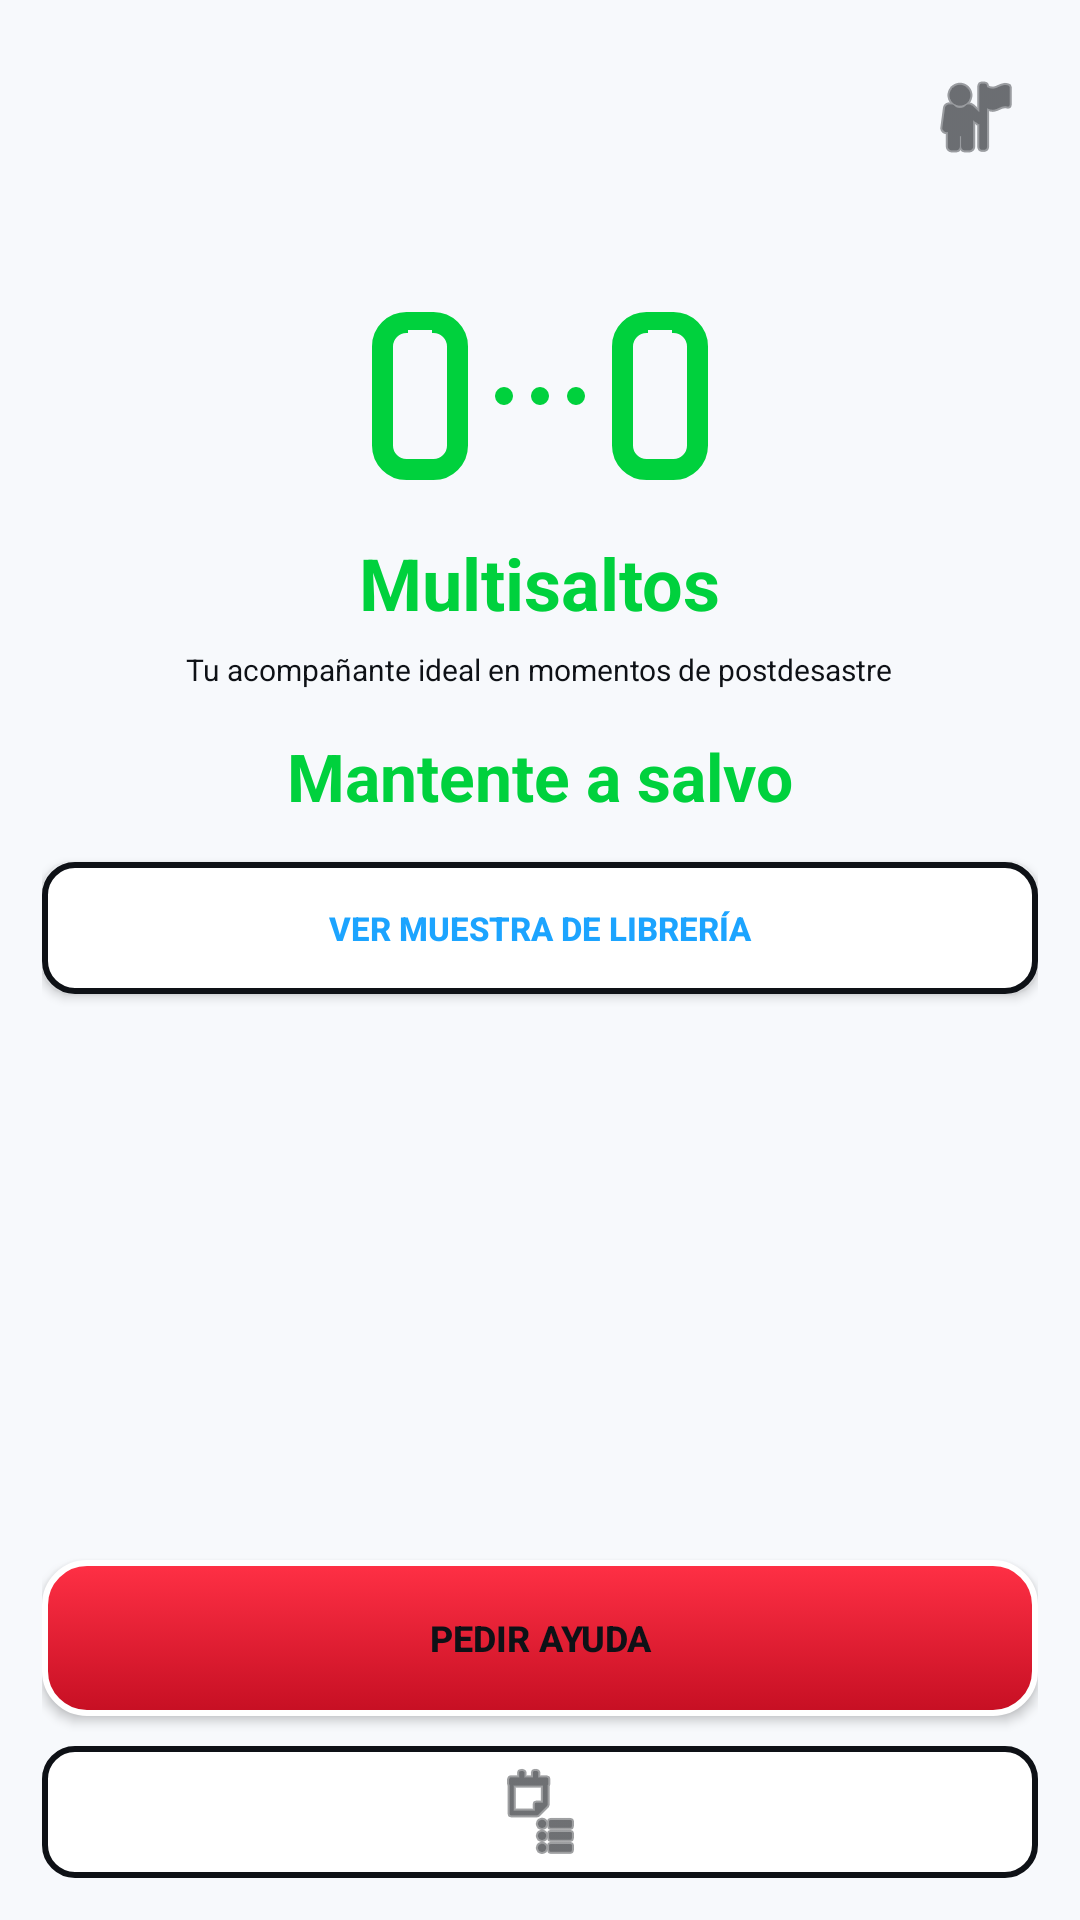

Icon bounding boxes for this 1080 × 1920 phone screenshot, format box=[x1, y1, x2, y2]:
Perfil: box=[940, 81, 1012, 153]
